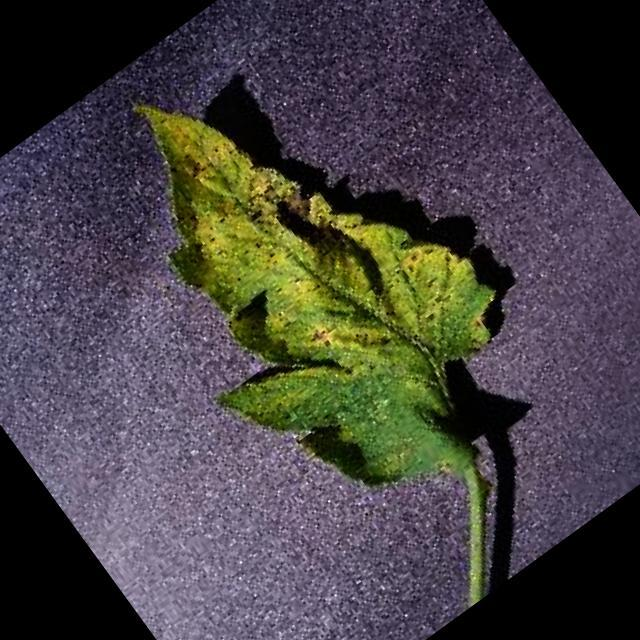Tomato Septoria spot leaf: (55, 0, 579, 569)
